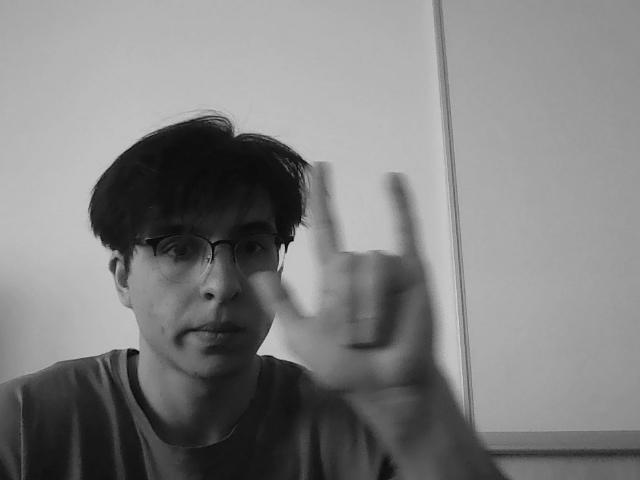I_Love_You: (285, 158, 469, 380)
